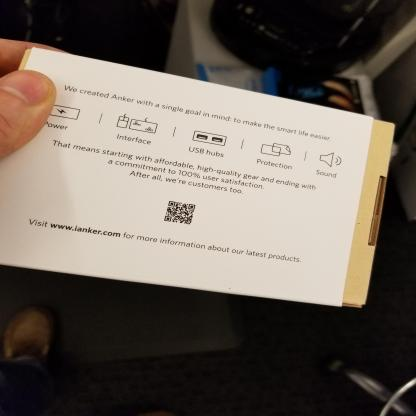qr: (163, 200, 200, 226)
